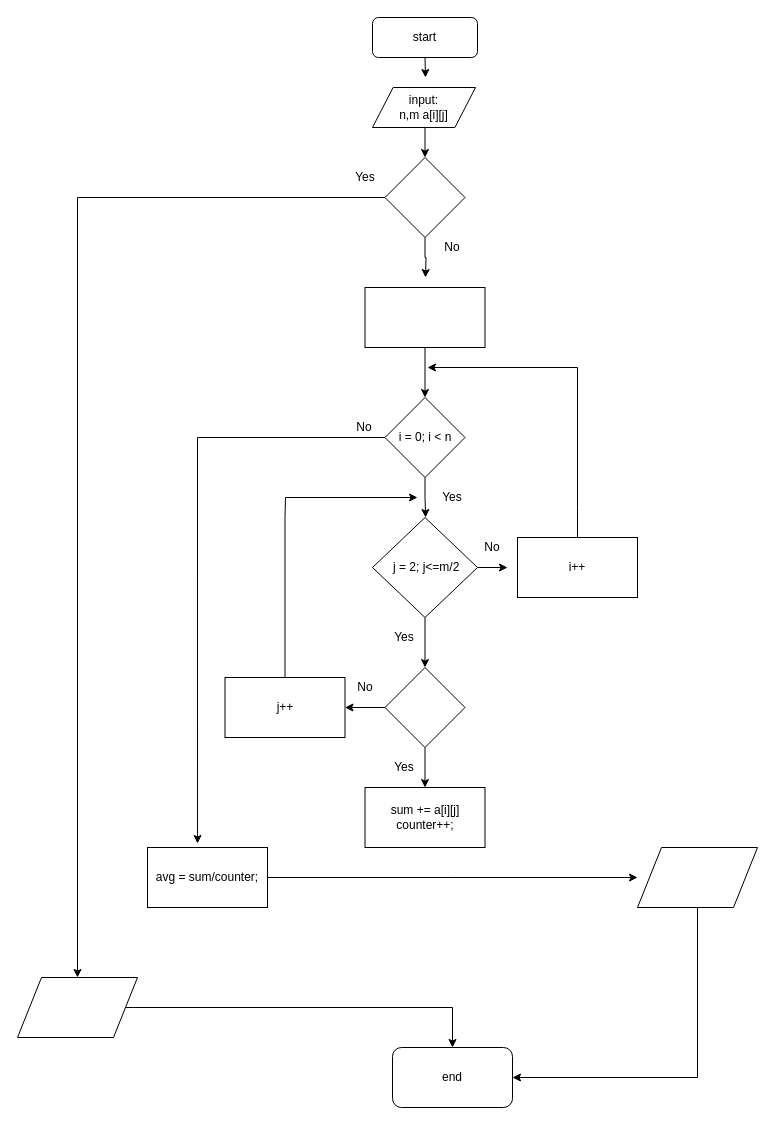
Image size: 775x1125. Some labels were removed from this diagram. Each missing label, with the centre of its shape:
if m % j == 0: point 424,707
if n = 0 || m =0: point 424,197
output: "tuščia matrica": point 77,1007
output: avg sum: point 697,877
sum = 0 counter = 0 avg = 0: point 424,317
